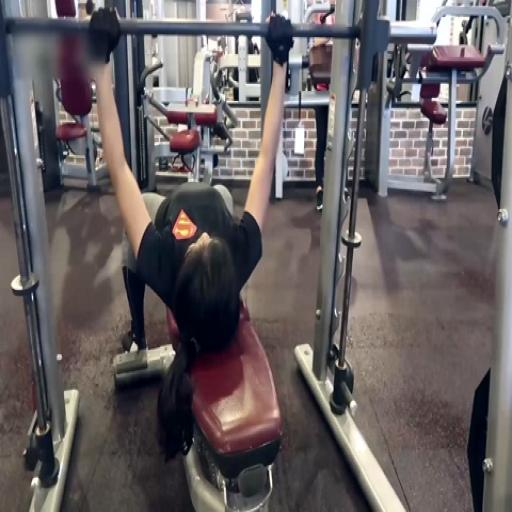exercise: (82, 3, 298, 461)
